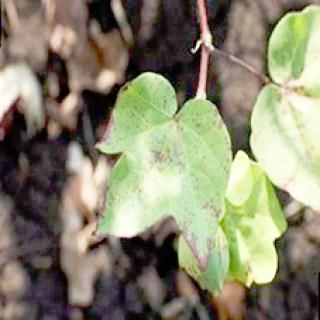leaf spot: (92, 72, 218, 266), (254, 78, 318, 182)
